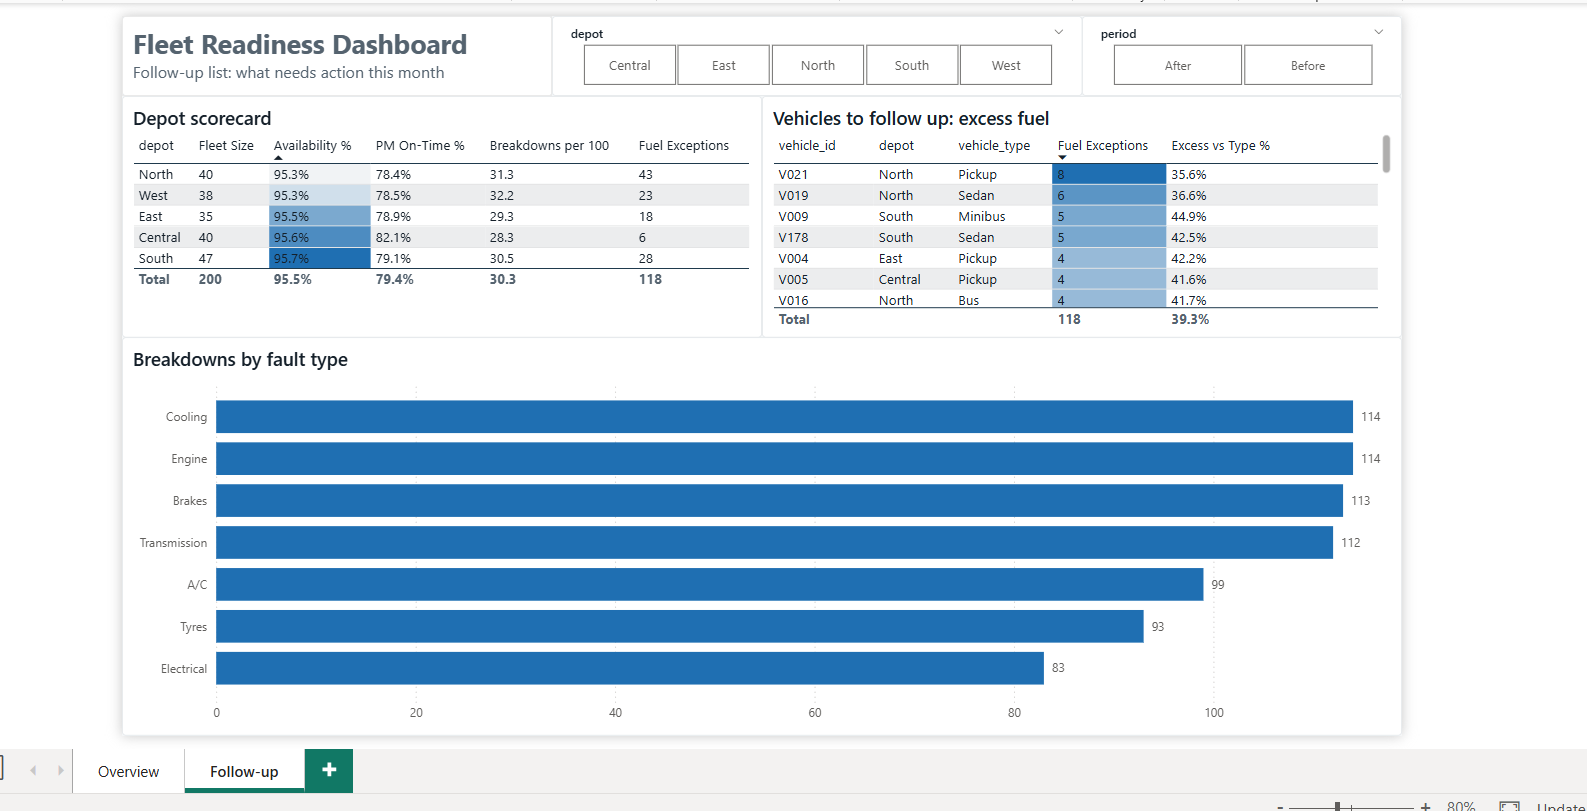

Layout of this report page (visuals, bound fields, positions):
{"tool":"powerbi","page":{"name":"Follow-up","canvas":[1280,720],"ordinal":1},"visuals":[{"type":"textbox","box":[0,0,430,80],"z":0},{"type":"slicer","fields":{"Values":["dim_vehicle.depot"]},"box":[430,0,530,80],"z":1},{"type":"slicer","fields":{"Values":["dim_date.period"]},"box":[960,0,320,80],"z":2},{"type":"tableEx","title":"Depot scorecard","fields":{"Values":["dim_vehicle.depot","_Measures.Fleet Size","_Measures.Availability %","_Measures.PM On-Time %","_Measures.Breakdowns per 100","_Measures.Fuel Exceptions"]},"box":[0,80,640,241.7],"z":3},{"type":"tableEx","title":"Vehicles to follow up: excess fuel","fields":{"Values":["dim_vehicle.vehicle_id","dim_vehicle.depot","dim_vehicle.vehicle_type","_Measures.Fuel Exceptions","_Measures.Excess vs Type %"]},"box":[640,80,640,241.7],"z":4},{"type":"clusteredBarChart","title":"Breakdowns by fault type","fields":{"Category":["fact_maintenance.fault_category"],"Y":["_Measures.Breakdowns"]},"box":[0,321.7,1280,398.3],"z":5}]}

Visuals, with their boxes on the page's 1280x720 design canvas (x1, y1, x2, y2). These are canvas units, not pixel positions in the 1587x811 screenshot, which may show the page scaled, cropped or inside an application window:
textbox: <box>0,0,430,80</box>
slicer - dim_vehicle.depot: <box>430,0,960,80</box>
slicer - dim_date.period: <box>960,0,1280,80</box>
"Depot scorecard" tableEx: <box>0,80,640,322</box>
"Vehicles to follow up: excess fuel" tableEx: <box>640,80,1280,322</box>
"Breakdowns by fault type" clusteredBarChart: <box>0,322,1280,720</box>
